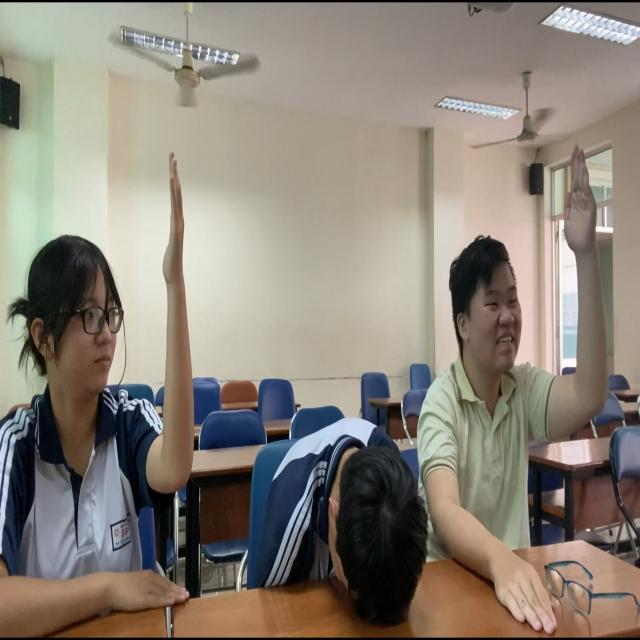raise_hand: (1, 150, 207, 640), (422, 141, 613, 595)
sleep: (251, 400, 433, 627)
